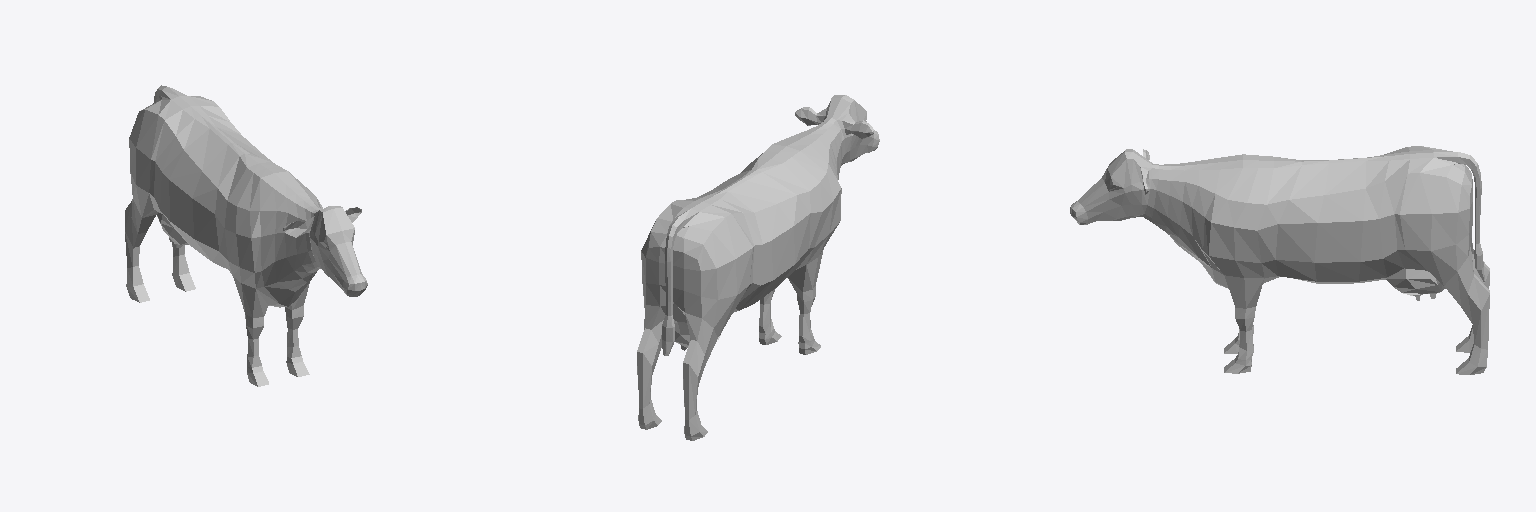
Rendered from cow2.obj.
The picture shows the model from 3 angles: view 1: azimuth 30°, elevation 25°; view 2: azimuth 150°, elevation 25°; view 3: azimuth 270°, elevation 25°; orthographic projection.
Visible parts, largest first — view 1: cowmap; view 2: cowmap; view 3: cowmap.
Boxes of the visible parts, box(x1,y1,x2,y2) form: cowmap: box(125, 85, 367, 386); cowmap: box(637, 95, 879, 440); cowmap: box(1070, 146, 1489, 374).
Bounding box in the file's own units: 7.54 × 16.58 × 30.2.